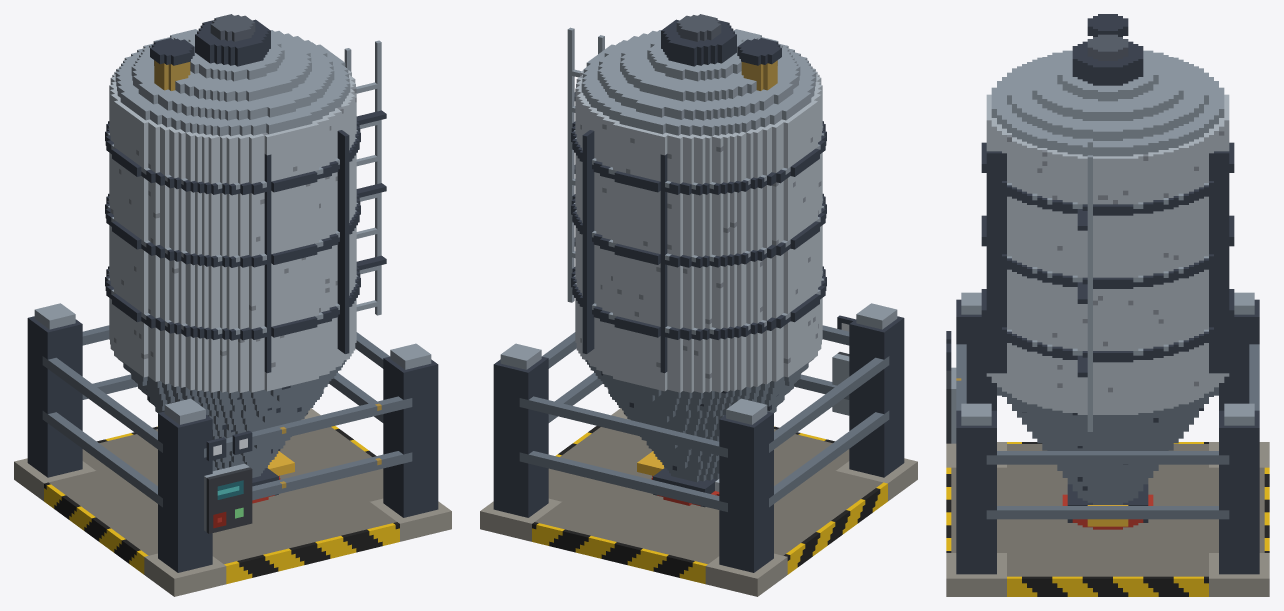
File: silo.obj
3 renders of one model, left to right at view 1: azimuth 30°, elevation 25°; view 2: azimuth 150°, elevation 25°; view 3: azimuth 270°, elevation 25°, orthographic.
Parts seen in each view (by area): view 1: silo; view 2: silo; view 3: silo.
Boxes of the visible parts, x1,y1,x2,y2 form: silo: [14, 14, 451, 596]; silo: [480, 14, 917, 596]; silo: [946, 14, 1269, 596].
Bounding box in the file's own units: 2 × 3.31 × 2.
